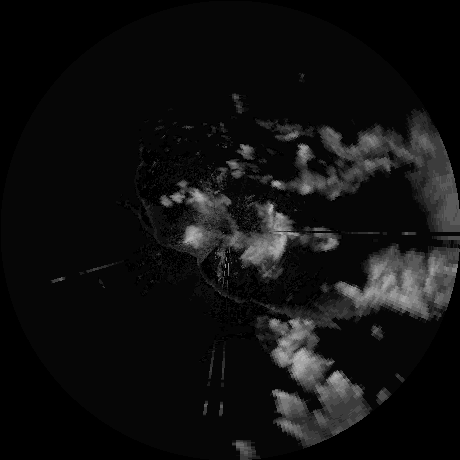frontgust: (197, 259, 292, 318), (140, 198, 199, 257)
